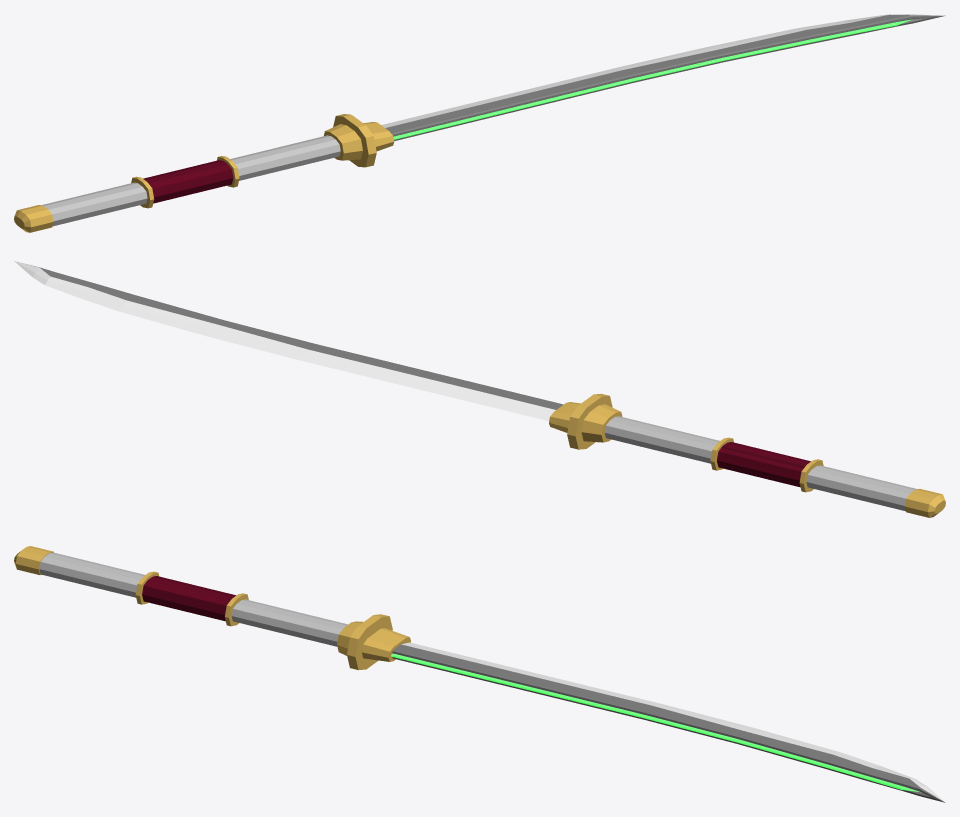
Rendered from Nagamaki.fbx.
3 renders of one model, top to bottom at view 1: azimuth 30°, elevation 25°; view 2: azimuth 150°, elevation 25°; view 3: azimuth 330°, elevation 25°, orthographic. The views are drawn at different scales.
Visible parts, largest first — view 1: Nagamaki; view 2: Nagamaki; view 3: Nagamaki.
Part boxes in pixels (x1=…): Nagamaki: x1=14, y1=14, x2=945, y2=232; Nagamaki: x1=14, y1=261, x2=945, y2=517; Nagamaki: x1=14, y1=546, x2=945, y2=802.
Size of the model in its own units: 1106 by 45.89 by 79.63.
